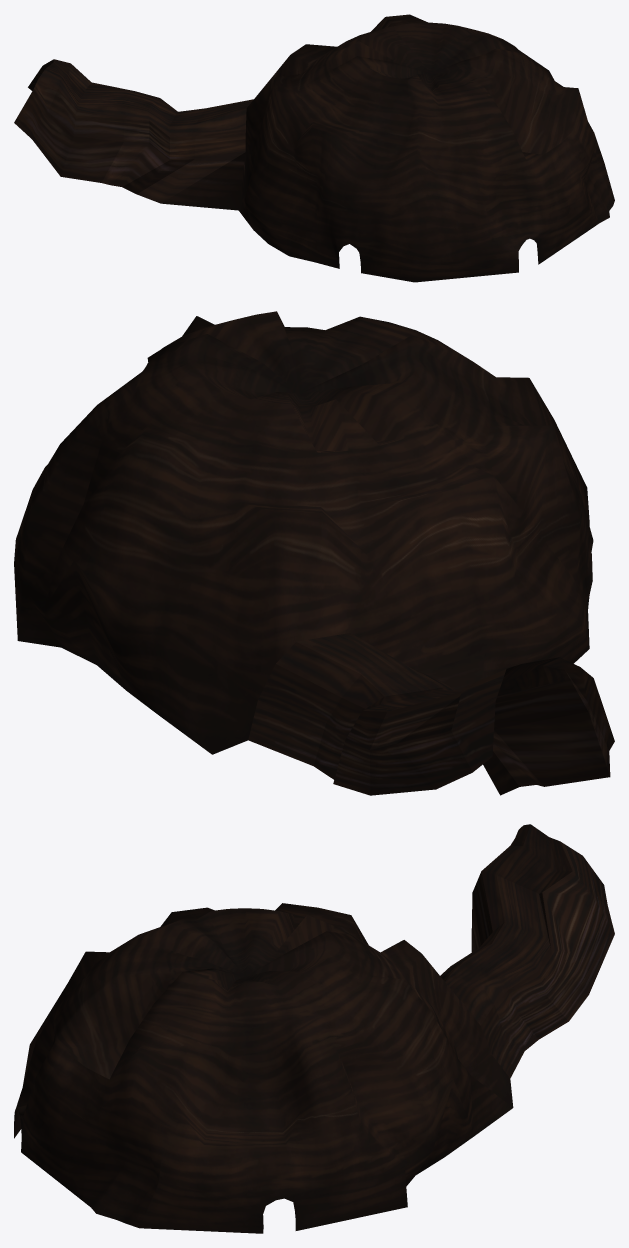
File: Cave_Chamber (New UVs).fbx
3 renders of one model, top to bottom at view 1: azimuth 30°, elevation 25°; view 2: azimuth 150°, elevation 25°; view 3: azimuth 270°, elevation 25°, orthographic. The views are drawn at different scales.
Parts seen in each view (by area): view 1: CaveChamber; view 2: CaveChamber; view 3: CaveChamber.
Boxes of the visible parts, x1,y1,x2,y2 form: CaveChamber: (14, 14, 614, 282); CaveChamber: (14, 311, 614, 795); CaveChamber: (14, 824, 614, 1233).
Size of the model in its own units: 694 by 230 by 628.
